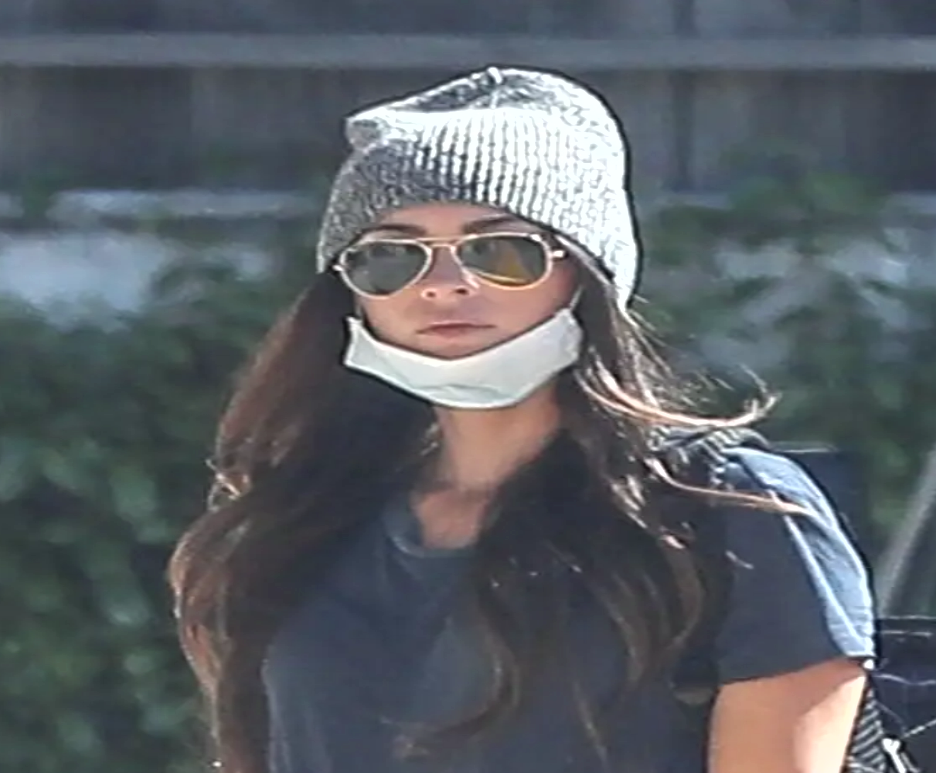mask_weared_incorrect: (317, 70, 637, 416)
